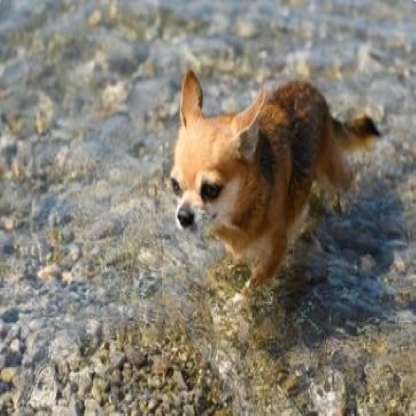chihuahua: (165, 68, 384, 291)
